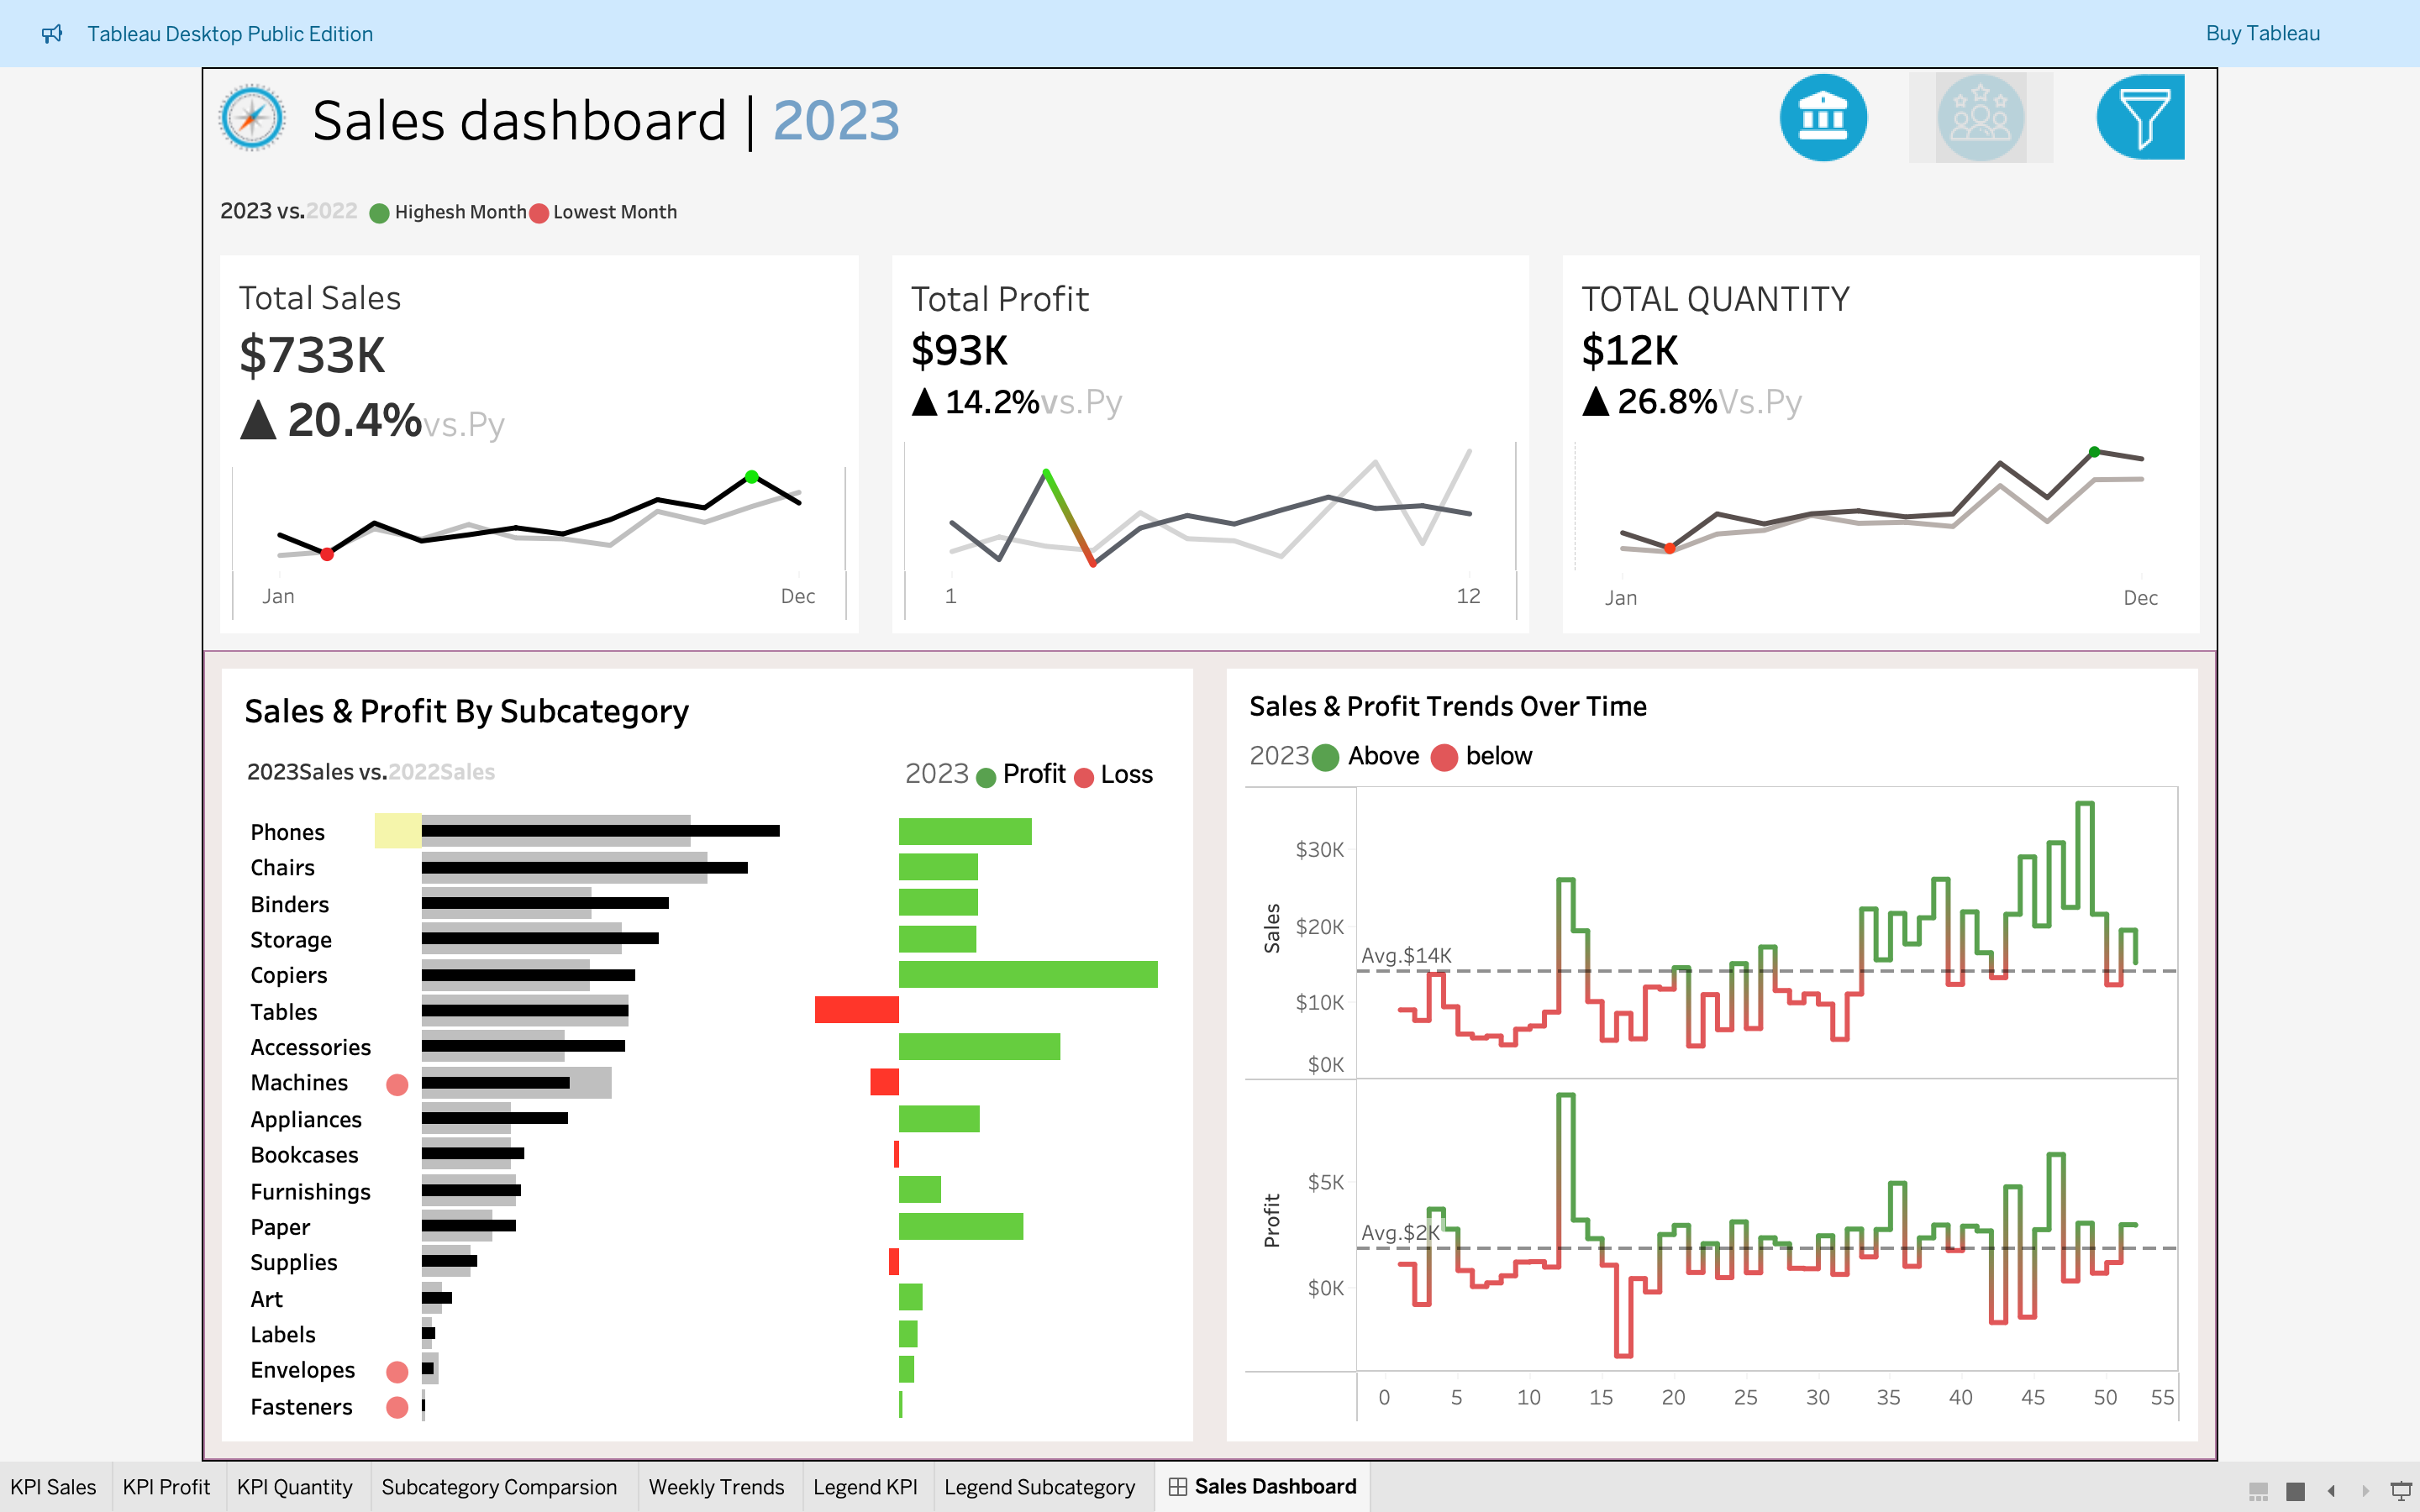

What the dashboard file says about the page in this screenshot:
{"tool":"tableau","page":{"name":"Sales Dashboard","canvas":[1000,1000],"units":"permille","ordinal":0},"visuals":[{"type":"image","param":"Image/Icon - Logo.png","box":[0.8,1.2,48.3,69.9]},{"type":"text","box":[49.2,1.2,713.3,69.9]},{"type":"text","box":[774.2,13.3,219.2,174.7]},{"type":"worksheet","title":"Legend KPI","mark":"Automatic","box":[0.8,71.1,998.3,63.9]},{"type":"worksheet","title":"KPI Sales","mark":"Line","rows":["Calculation_235735328210653184"],"cols":["Order Date"],"box":[0.8,134.9,333.3,283.1]},{"type":"worksheet","title":"KPI Profit","mark":"Line","rows":["Calculation_353602975186391040"],"cols":["Order Date"],"box":[334.2,134.9,332.5,283.1]},{"type":"worksheet","title":"KPI Quantity","mark":"Line","rows":["Calculation_353602975191441412"],"cols":["Order Date"],"box":[666.7,134.9,332.5,283.1]},{"type":"parameter","param":"[Parameters].[Parameter 1]","box":[774.2,188,219.2,84.3]},{"type":"text","box":[774.2,272.3,219.2,38.6]},{"type":"filter","title":"KPI Sales","param":"[federated.0y8gpnx05mczir141x3rh18bk80v].[none:Category:nk]","box":[774.2,310.9,219.2,62.6]},{"type":"filter","title":"KPI Sales","param":"[federated.0y8gpnx05mczir141x3rh18bk80v].[none:Sub-Category:nk]","box":[774.2,373.6,219.2,62.6]},{"type":"text","box":[774.2,436.2,219.2,69.9]},{"type":"text","box":[15.8,439.8,470,41]},{"type":"text","box":[514.2,439.8,470,36.1]},{"type":"text","box":[514.2,475.9,470,34.9]},{"type":"worksheet","title":"Legend Subcategory","mark":"Automatic","box":[15.8,480.7,327.5,49.4]},{"type":"text","box":[343.3,480.7,142.5,49.4]},{"type":"filter","title":"KPI Sales","param":"[federated.0y8gpnx05mczir141x3rh18bk80v].[none:Region:nk]","box":[774.2,506.1,219.2,62.6]},{"type":"worksheet","title":"Weekly Trends","mark":"Automatic","rows":["Calculation_163748102907047936","Calculation_77546391653216256"],"cols":["Order Date"],"box":[514.2,510.9,470,466.3]},{"type":"worksheet","title":"Subcategory Comparsion","mark":"Bar","rows":["Sub-Category","Calculation_353954819570368512"],"cols":["CY Sales (copy)_163748102907588609","Calculation_163748102907047936","Calculation_77546391653216256"],"box":[15.8,530.1,470,446.9]},{"type":"filter","title":"KPI Sales","param":"[federated.0y8gpnx05mczir141x3rh18bk80v].[none:State:nk]","box":[774.2,568.7,219.2,62.6]},{"type":"filter","title":"KPI Sales","param":"[federated.0y8gpnx05mczir141x3rh18bk80v].[none:City:nk]","box":[774.2,631.4,219.2,67.5]}]}

Visuals, with their boxes on the dashboard's canvas, which has no fixed pixel size, in thousandths of its width and height (x1, y1, x2, y2). These are canvas units, not pixel positions in the 2420x1512 screenshot, which may show the page scaled, cropped or inside an application window:
image: (1,1,49,71)
text: (49,1,762,71)
text: (774,13,993,188)
"Legend KPI" worksheet: (1,71,999,135)
"KPI Sales" worksheet (Line marks): (1,135,334,418)
"KPI Profit" worksheet (Line marks): (334,135,667,418)
"KPI Quantity" worksheet (Line marks): (667,135,999,418)
parameter: (774,188,993,272)
text: (774,272,993,311)
"KPI Sales" filter: (774,311,993,374)
"KPI Sales" filter: (774,374,993,436)
text: (774,436,993,506)
text: (16,440,486,481)
text: (514,440,984,476)
text: (514,476,984,511)
"Legend Subcategory" worksheet: (16,481,343,530)
text: (343,481,486,530)
"KPI Sales" filter: (774,506,993,569)
"Weekly Trends" worksheet: (514,511,984,977)
"Subcategory Comparsion" worksheet (Bar marks): (16,530,486,977)
"KPI Sales" filter: (774,569,993,631)
"KPI Sales" filter: (774,631,993,699)
